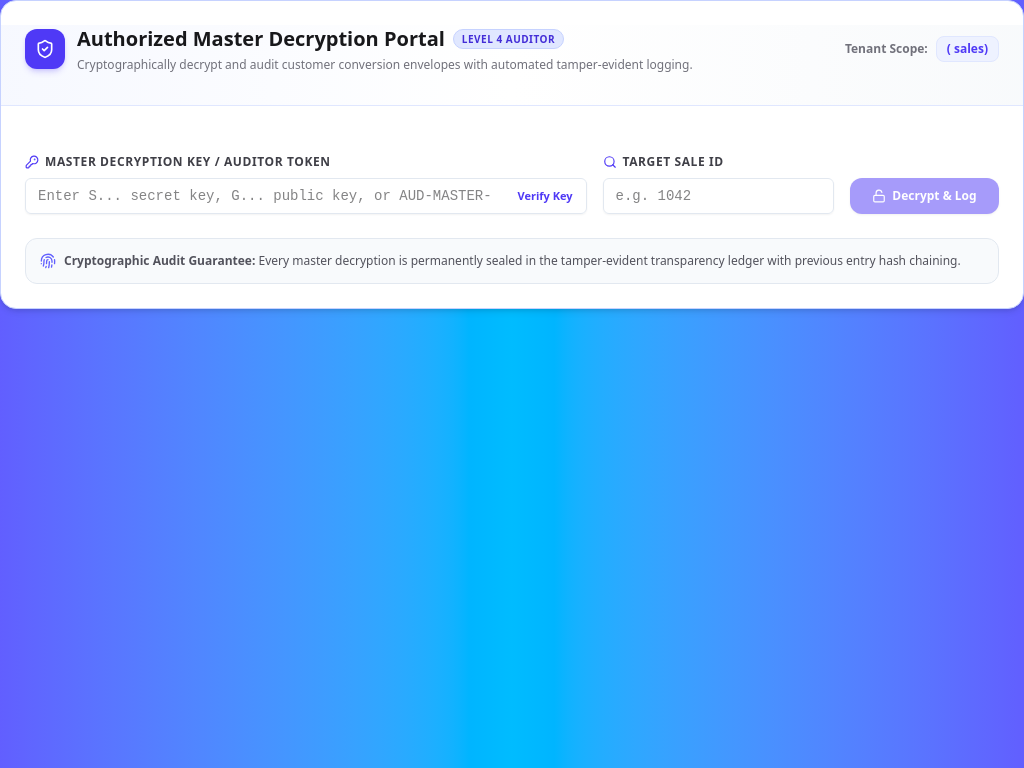
Scenario: MasterDecryptionPortal (#58) › denies access if master key has been revoked in audit ledger
Type "GASTORMSALEREVOKEDKEY7777777777777777777777777777777777777" into the password field with test id "input-master-key" at (306, 196), box [25,178,586,214]
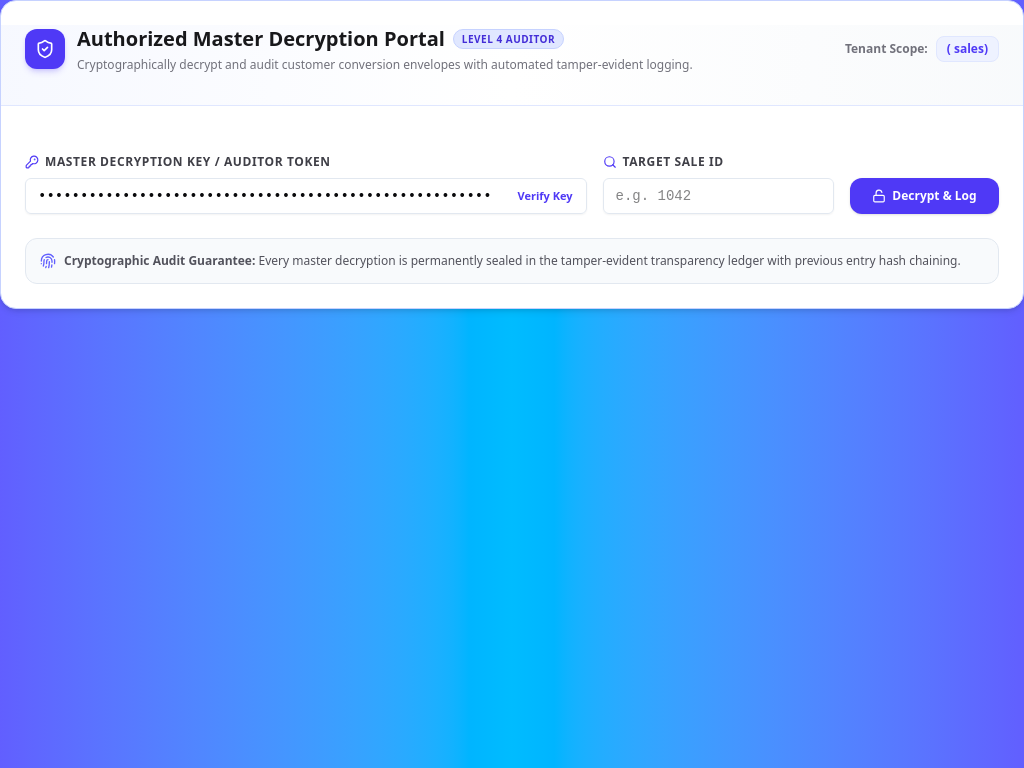
Click the button with test id "btn-master-decrypt" at (924, 196), box [850,178,999,214]
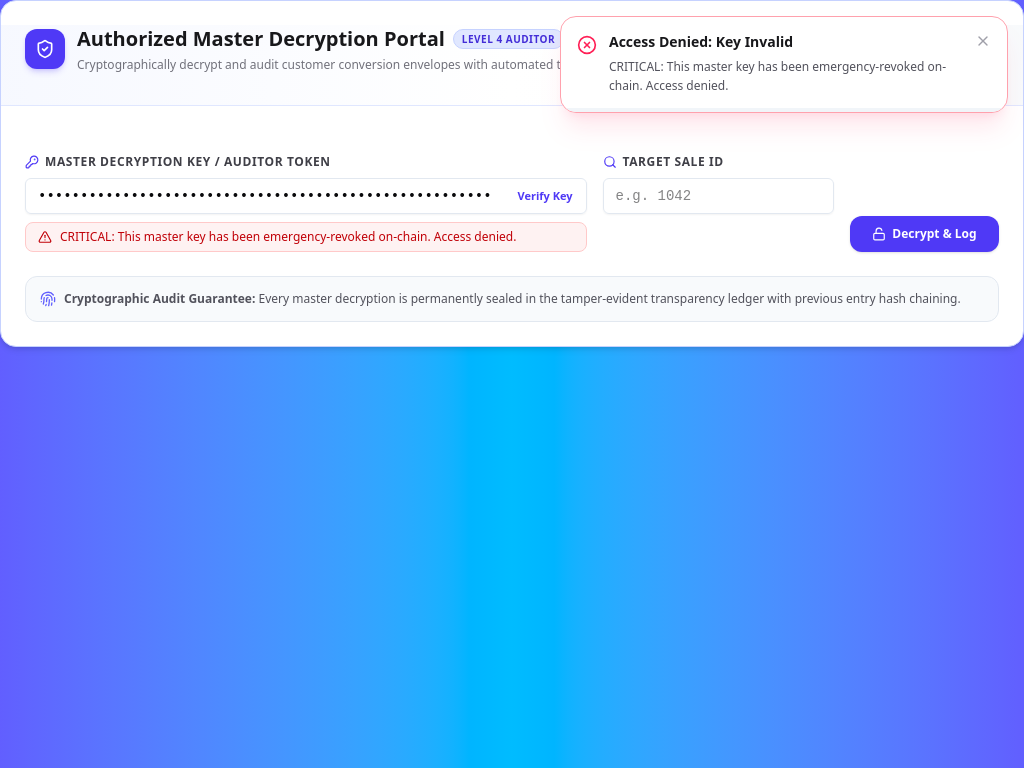
Expected: the text "emergency-revoked" below "Master Decryption Key / Auditor Token" is shown, [60,228,516,245]
